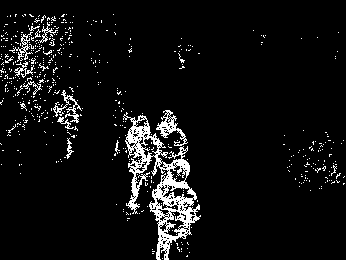person: (154, 158, 200, 260), (152, 104, 189, 211), (123, 113, 158, 214), (51, 88, 84, 162)
